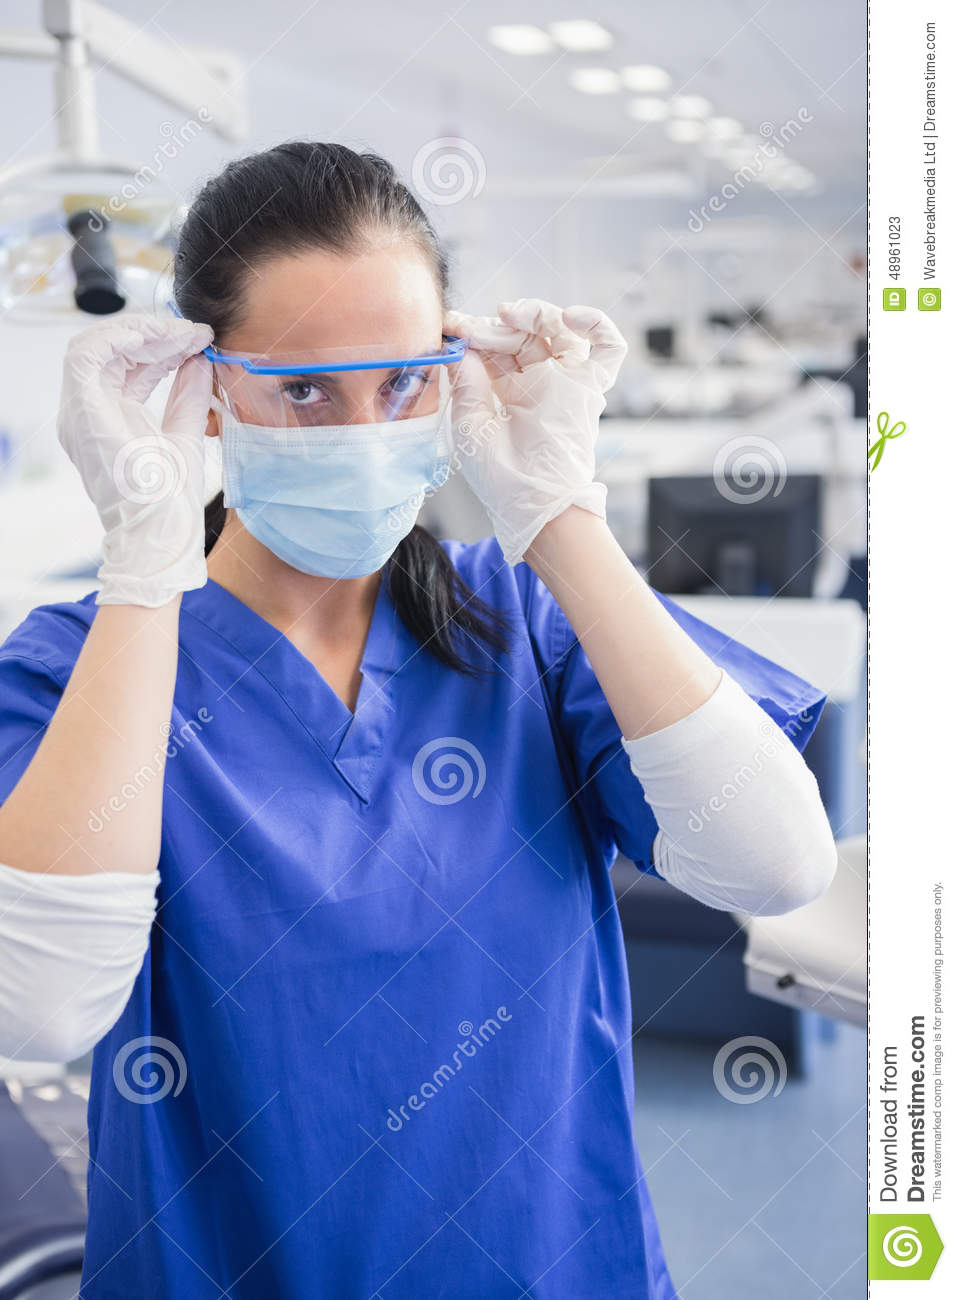mask: (224, 403, 462, 597)
